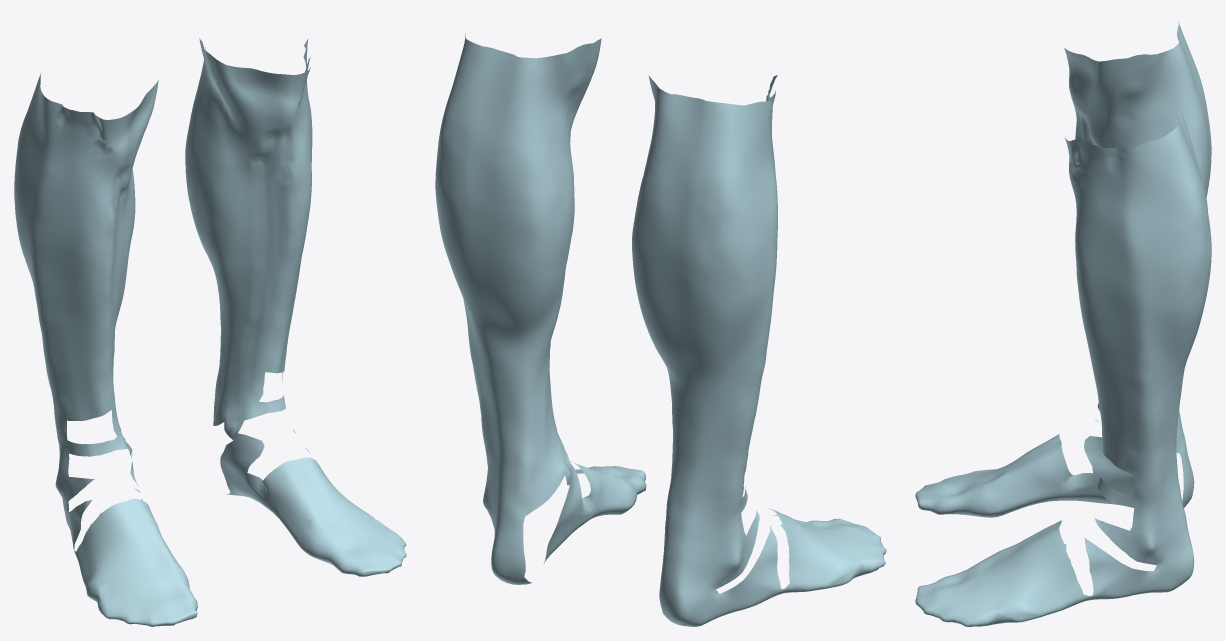
The model's file is anatomyNewV3.glb.
The picture shows the model from 3 angles, left to right: view 1: azimuth 30°, elevation 25°; view 2: azimuth 150°, elevation 25°; view 3: azimuth 270°, elevation 25°; orthographic projection. The views are drawn at different scales.
Parts seen in each view (by area): view 1: Crural fascia.l.001, Crural fascia.r.001; view 2: Crural fascia.r.001, Crural fascia.l.001; view 3: Crural fascia.l.001, Crural fascia.r.001.
Boxes of the visible parts, bbox=[...] form: Crural fascia.l.001: bbox=[185, 38, 406, 576]; Crural fascia.r.001: bbox=[14, 73, 197, 626]; Crural fascia.r.001: bbox=[632, 75, 886, 626]; Crural fascia.l.001: bbox=[435, 33, 646, 584]; Crural fascia.l.001: bbox=[915, 107, 1211, 626]; Crural fascia.r.001: bbox=[915, 21, 1211, 517].
Size of the model in its own units: 0.2937 by 0.442 by 0.2446.
